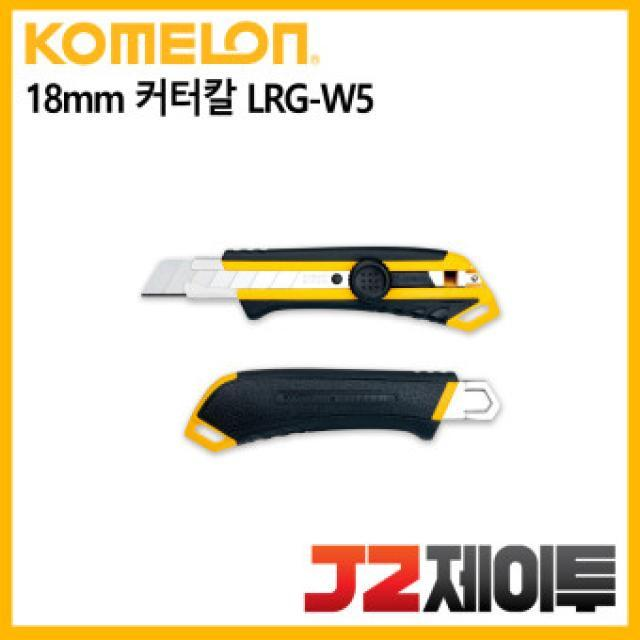cutter: (119, 228, 508, 340), (162, 353, 501, 456)
